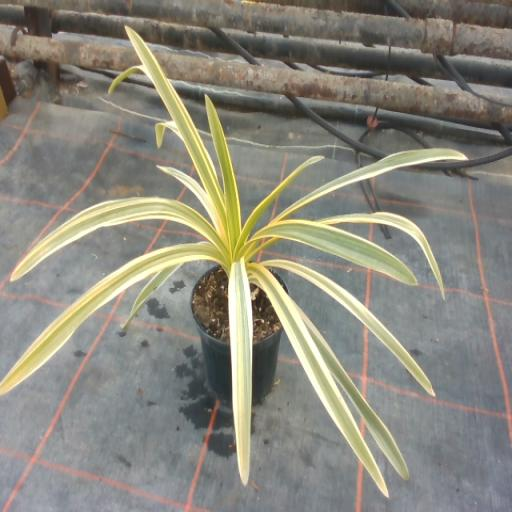Agapanthus-praecox: (0, 243, 218, 394), (250, 263, 387, 495), (265, 260, 433, 395), (126, 28, 226, 235), (299, 307, 407, 477), (11, 197, 226, 279), (270, 148, 466, 225), (320, 212, 444, 297), (257, 220, 416, 283), (235, 156, 319, 252), (206, 97, 240, 252), (229, 258, 251, 483), (122, 265, 180, 327), (159, 165, 213, 217), (109, 65, 145, 93), (155, 122, 184, 147)
